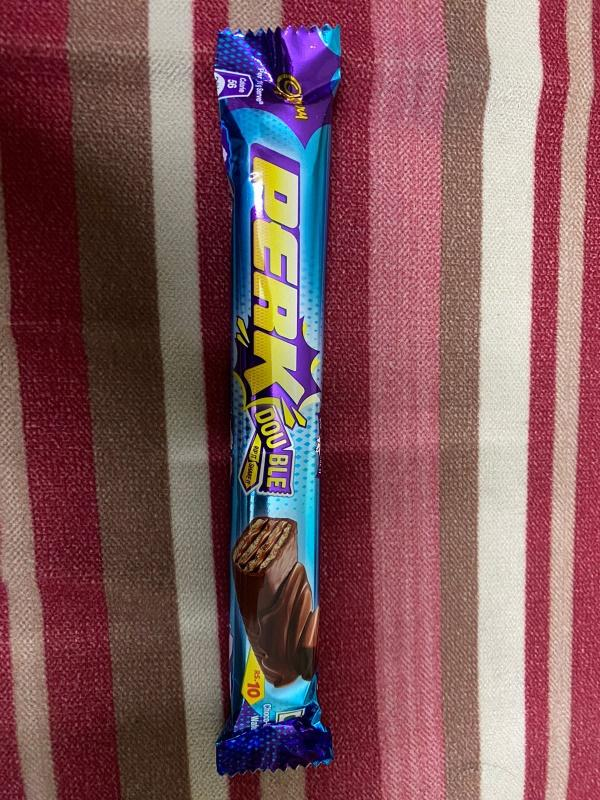Perk: (196, 30, 387, 783)
